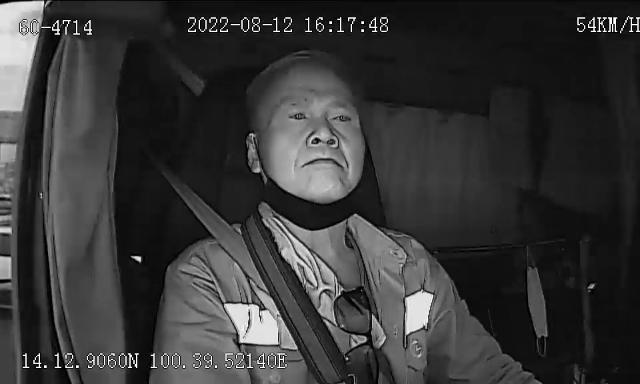SafeDriving: (324, 104, 359, 130), (282, 101, 314, 128)
Seatbelt: (169, 172, 265, 290)
